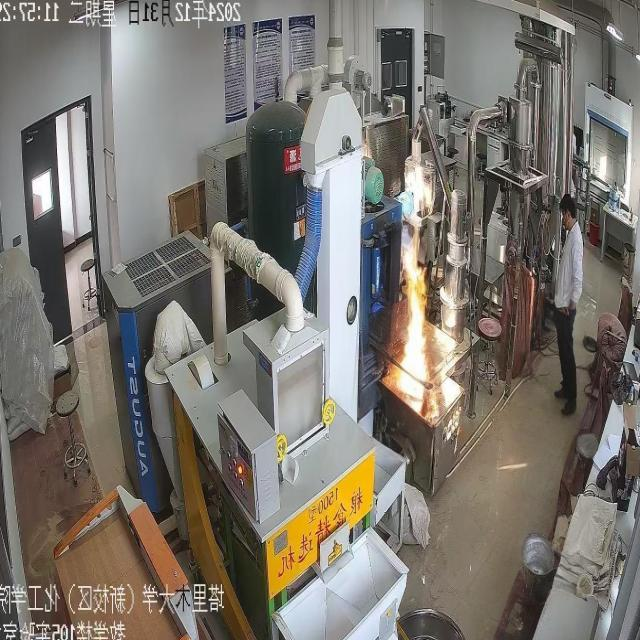smoke: (392, 234, 445, 416)
